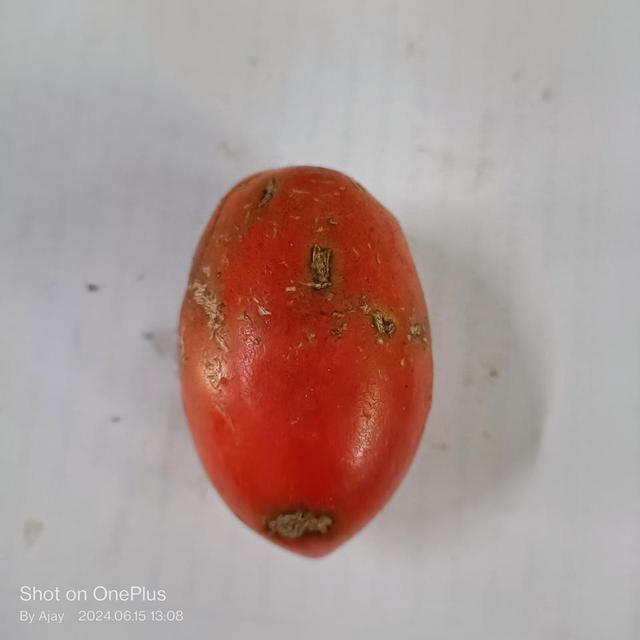Bacterial Spot Fruit: (8, 13, 277, 349)
